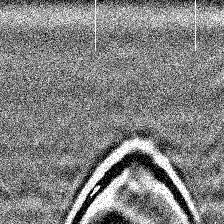Utility: (62, 129, 201, 224)
